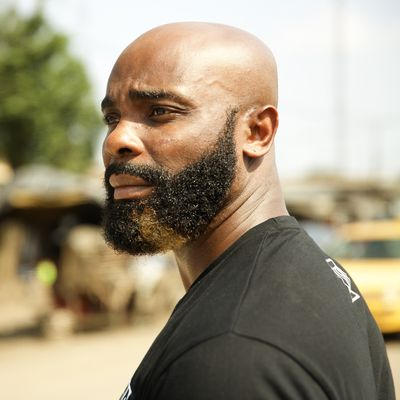without_mask: (102, 86, 219, 240)
